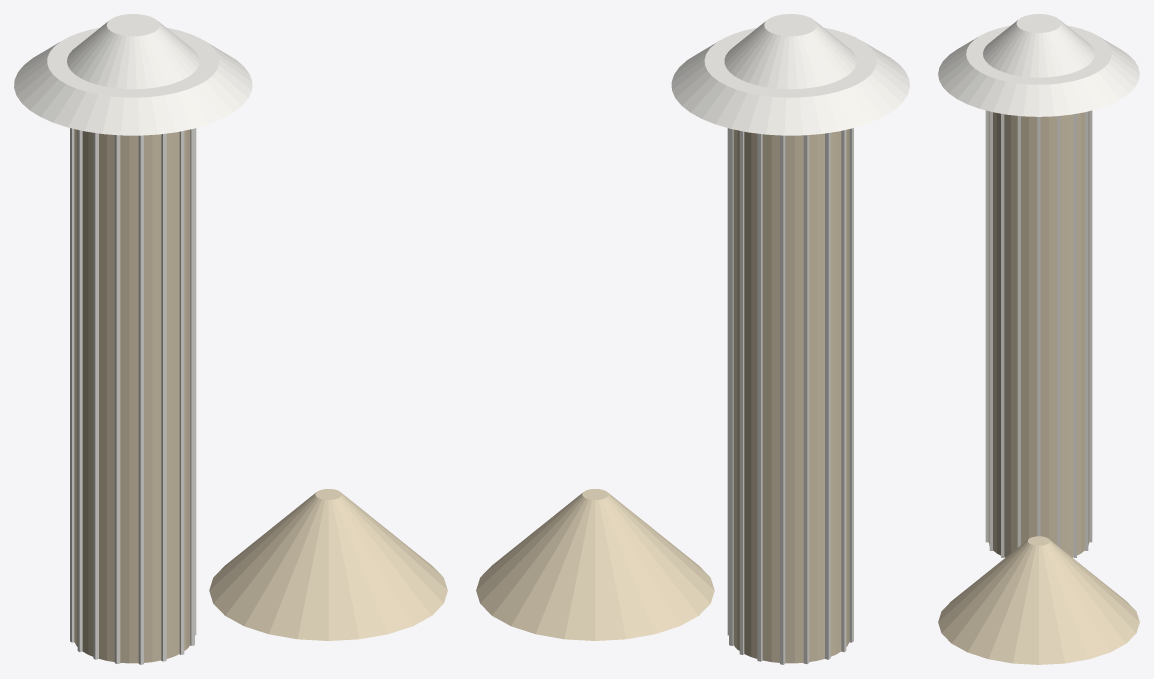
Rendered from nairobi.glb.
3 renders of one model, left to right at view 1: azimuth 30°, elevation 25°; view 2: azimuth 150°, elevation 25°; view 3: azimuth 270°, elevation 25°, orthographic. The views are drawn at different scales.
Parts seen in each view (by area): view 1: Cone, Cone.003, Cone.001, Cone.002, Cube.010, Cube.011, Cube.012, Cube.009, Cube.013, Cube.008, Cube.014, Cube.007 (+1 smaller); view 2: Cone, Cone.003, Cone.001, Cone.002, Cube.006, Cube.005, Cube.004, Cube.007, Cube.003, Cube.008, Cube.002, Cube.009 (+1 smaller); view 3: Cone, Cone.003, Cone.001, Cone.002, Cube.002, Cube.014, Cube.003, Cube.013, Cube.004, Cube.012, Cube.001, Cube.015 (+1 smaller).
Part boxes in pixels (<box>): Cone: <box>74,129,190,663</box>; Cone.003: <box>209,489,447,640</box>; Cone.001: <box>14,27,252,135</box>; Cone.002: <box>67,14,199,89</box>; Cube.010: <box>114,135,120,663</box>; Cube.011: <box>138,135,143,664</box>; Cube.012: <box>161,133,166,661</box>; Cube.009: <box>93,132,98,659</box>; Cube.013: <box>179,131,184,654</box>; Cube.008: <box>77,130,82,652</box>; Cube.014: <box>190,128,194,645</box>; Cube.007: <box>70,128,74,642</box>; Cone: <box>733,129,849,663</box>; Cone.003: <box>476,489,714,640</box>; Cone.001: <box>671,27,909,135</box>; Cone.002: <box>724,14,856,89</box>; Cube.006: <box>803,135,809,663</box>; Cube.005: <box>780,135,785,664</box>; Cube.004: <box>757,133,762,661</box>; Cube.007: <box>825,132,830,659</box>; Cube.003: <box>739,131,744,654</box>; Cube.008: <box>841,130,846,652</box>; Cube.002: <box>729,128,733,645</box>; Cube.009: <box>849,128,853,642</box>; Cone: <box>988,111,1089,557</box>; Cone.003: <box>938,536,1139,664</box>; Cone.001: <box>938,25,1139,116</box>; Cone.002: <box>983,14,1094,77</box>; Cube.002: <box>1073,113,1076,557</box>; Cube.014: <box>1001,113,1004,557</box>; Cube.003: <box>1085,111,1088,550</box>; Cube.013: <box>989,111,992,550</box>; Cube.004: <box>1089,110,1092,542</box>; Cube.012: <box>985,110,988,542</box>; Cube.001: <box>1057,116,1060,547</box>; Cube.015: <box>1017,116,1020,547</box>.
Bounding box in the file's own units: 70 × 102 × 36.
